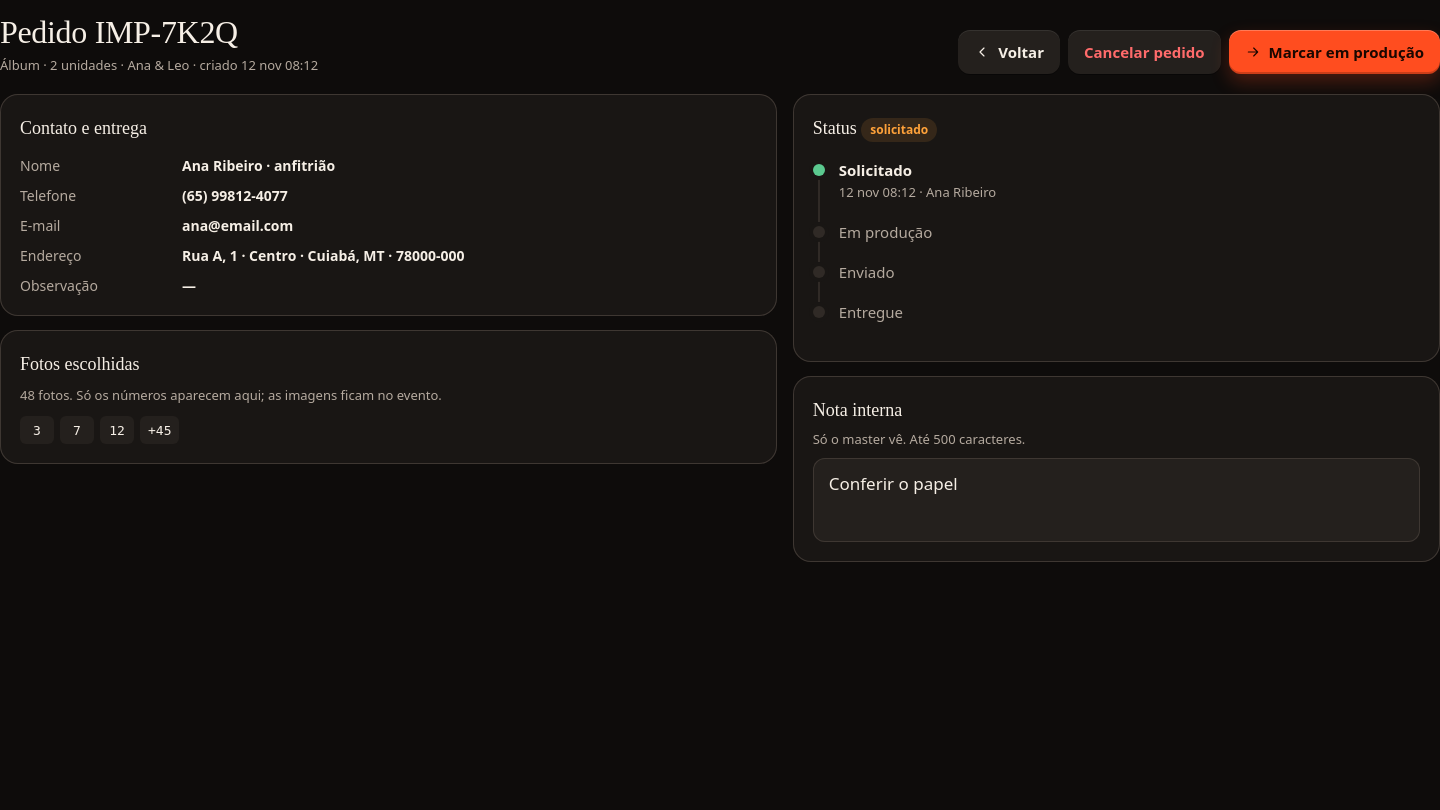
M30 · detalhe e ações › avançar: pedido que já mudou mostra a mensagem e não recarrega
This screenshot has width=1440, height=810.
Click the button "Marcar em produção": (1334, 52) [1229,30,1439,74]
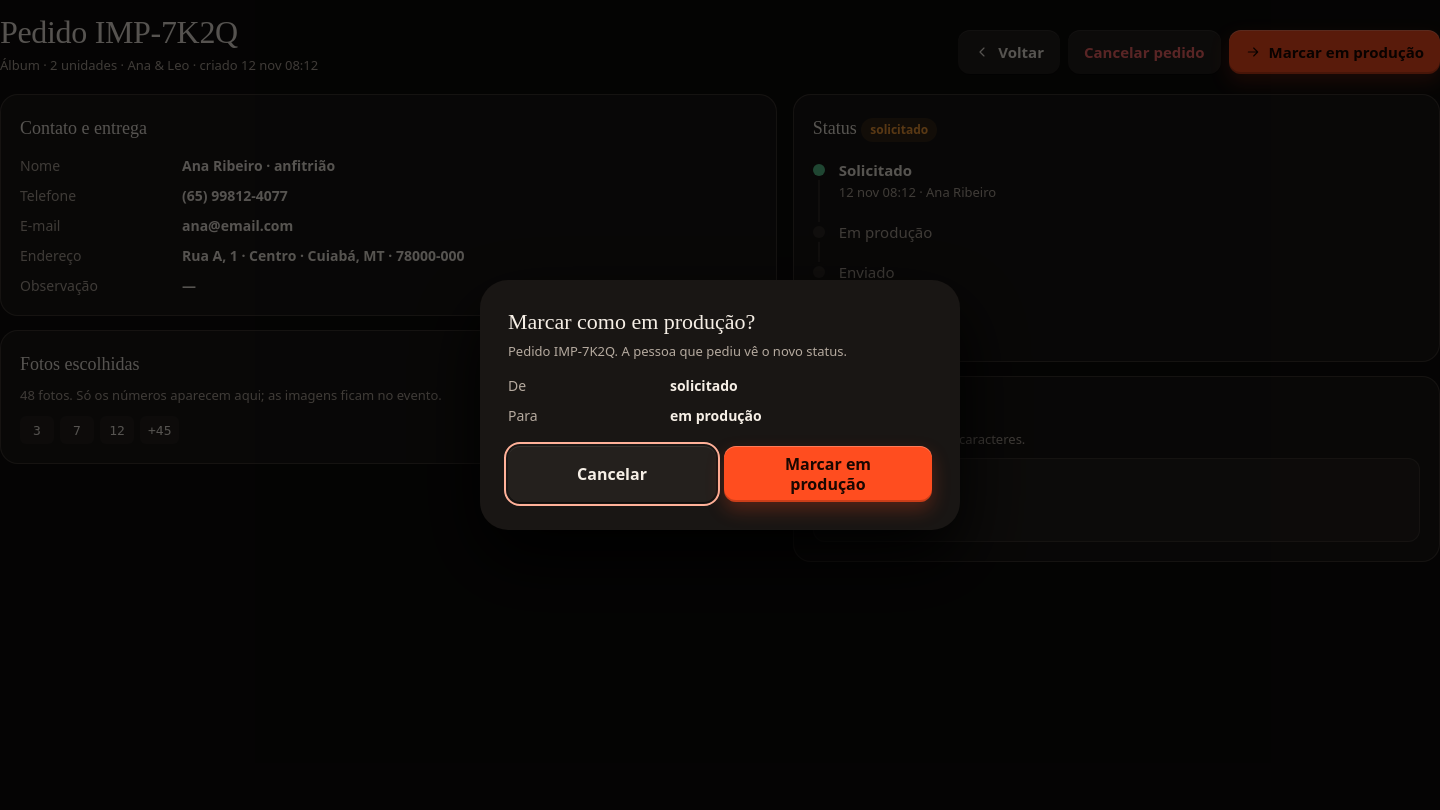
Click the button "Marcar em produção": (828, 474) [724,446,932,502]
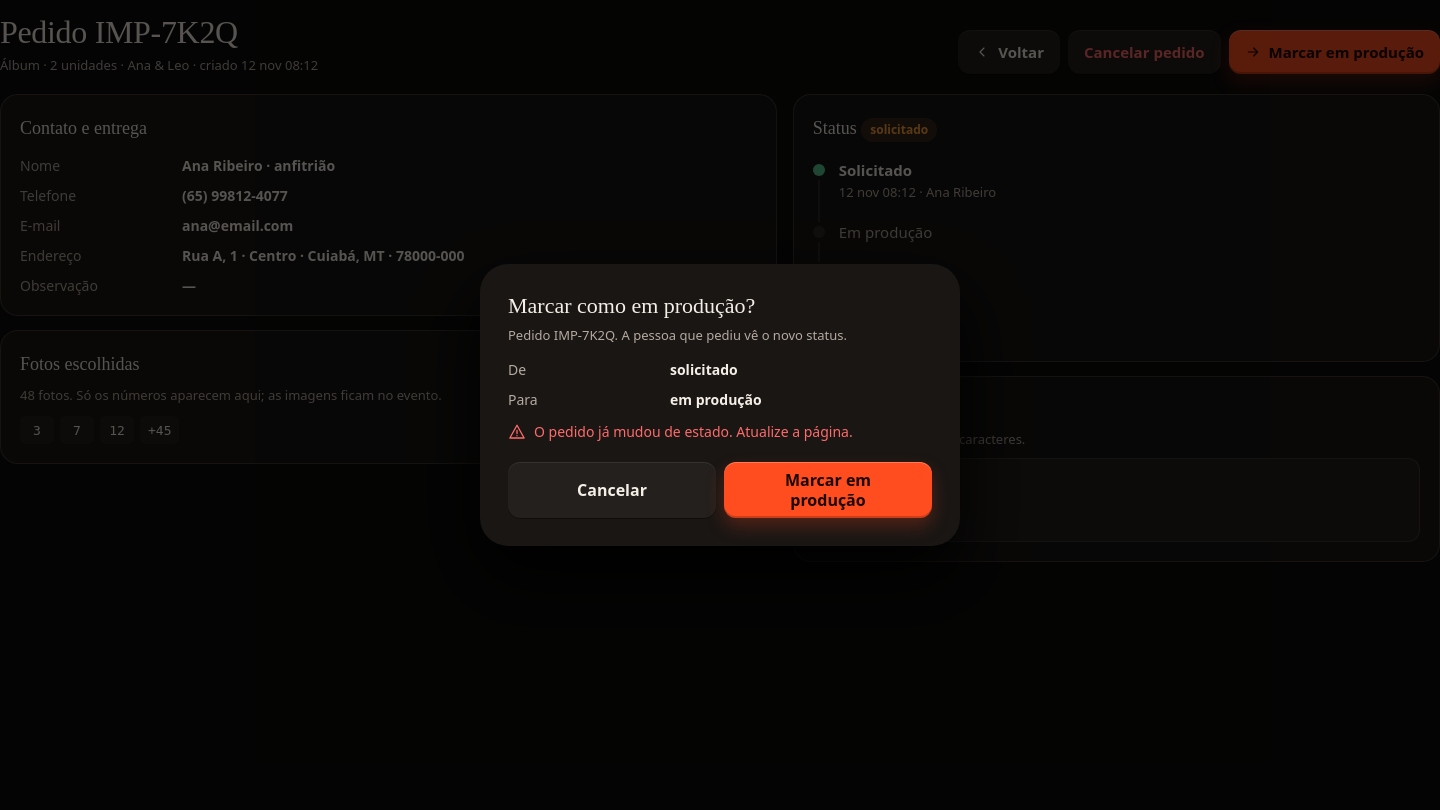
expect the message shows "O pedido já mudou de estado": met, box [534,422,853,441]
